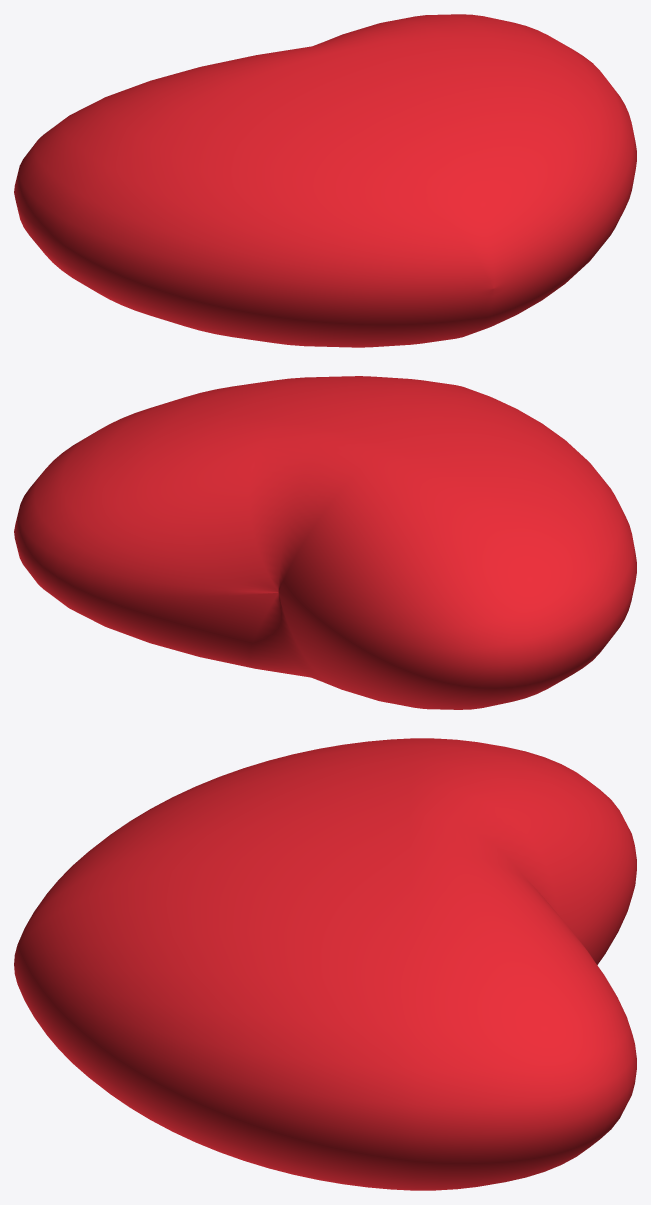
The model's file is asset.glb.
3 views of the same model, one above another, from view 1: azimuth 30°, elevation 25°; view 2: azimuth 150°, elevation 25°; view 3: azimuth 270°, elevation 25° (orthographic). The views are drawn at different scales.
Parts seen in each view (by area): view 1: СёрфСфера; view 2: СёрфСфера; view 3: СёрфСфера.
Boxes of the visible parts, x1=… form: СёрфСфера: x1=14, y1=14, x2=636, y2=347; СёрфСфера: x1=14, y1=376, x2=636, y2=709; СёрфСфера: x1=14, y1=738, x2=636, y2=1190.
Size of the model in its own units: 2.2 by 0.9 by 1.7.
